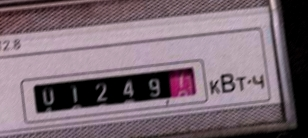0: (39, 84, 56, 106)
1: (66, 82, 80, 104)
2: (91, 79, 110, 103)
4: (120, 76, 135, 98)
7: (173, 67, 188, 89)
9: (146, 75, 161, 98)
screen: (16, 54, 211, 125)
